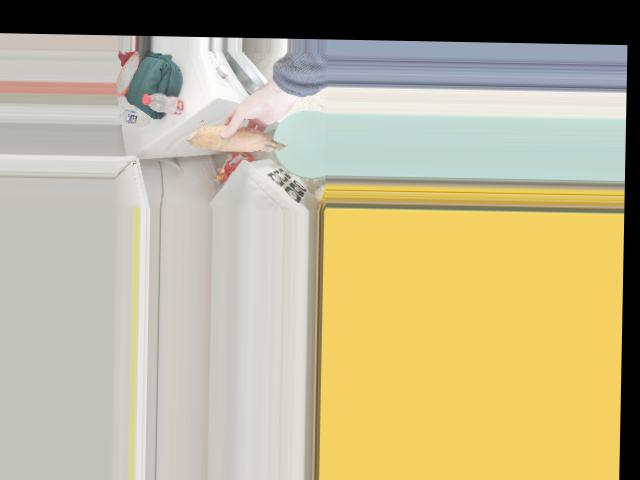sweet_potato: (194, 119, 289, 154)
